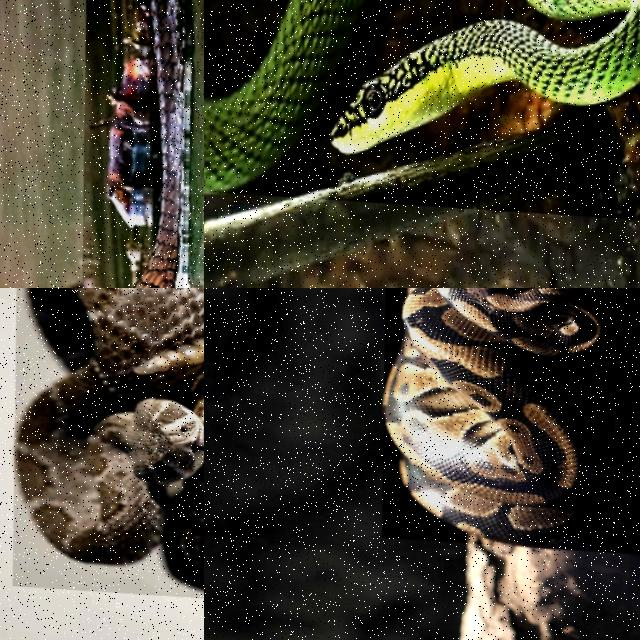Calloselasma rhodostoma: (15, 288, 203, 590)
Chrysopelea ornata: (333, 0, 639, 150)
Ophiophagus hannah: (138, 0, 189, 287)
Python bivittatus: (384, 288, 639, 549)
